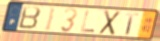3: (59, 7, 81, 34)
B: (17, 5, 42, 31)
I: (43, 6, 57, 33)
L: (80, 10, 95, 34)
T: (124, 12, 139, 36)
X: (98, 9, 122, 37)
